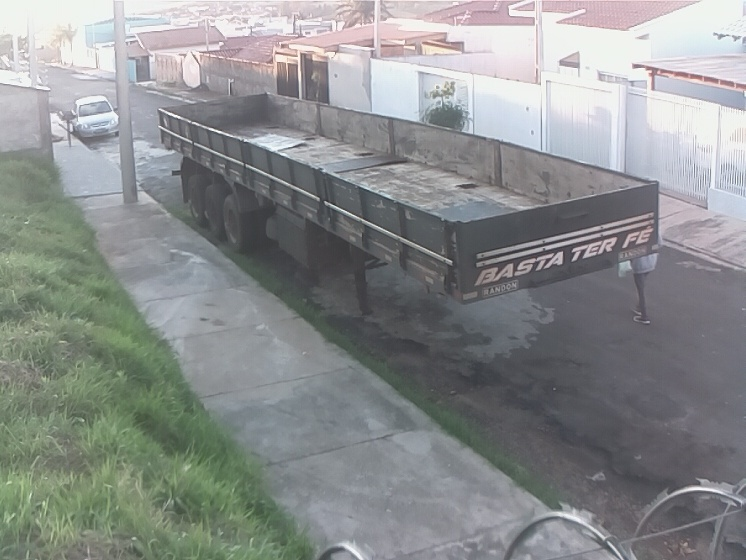person: (623, 251, 663, 329)
